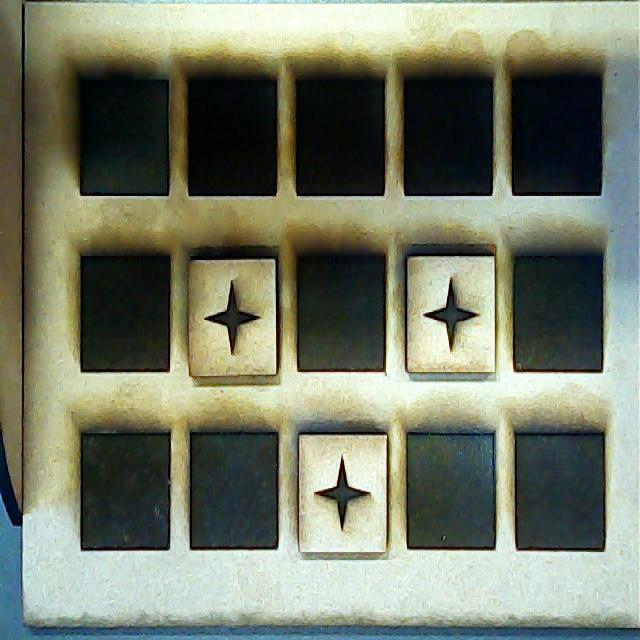star: (406, 245, 498, 374), (190, 250, 281, 375), (296, 431, 388, 553)
